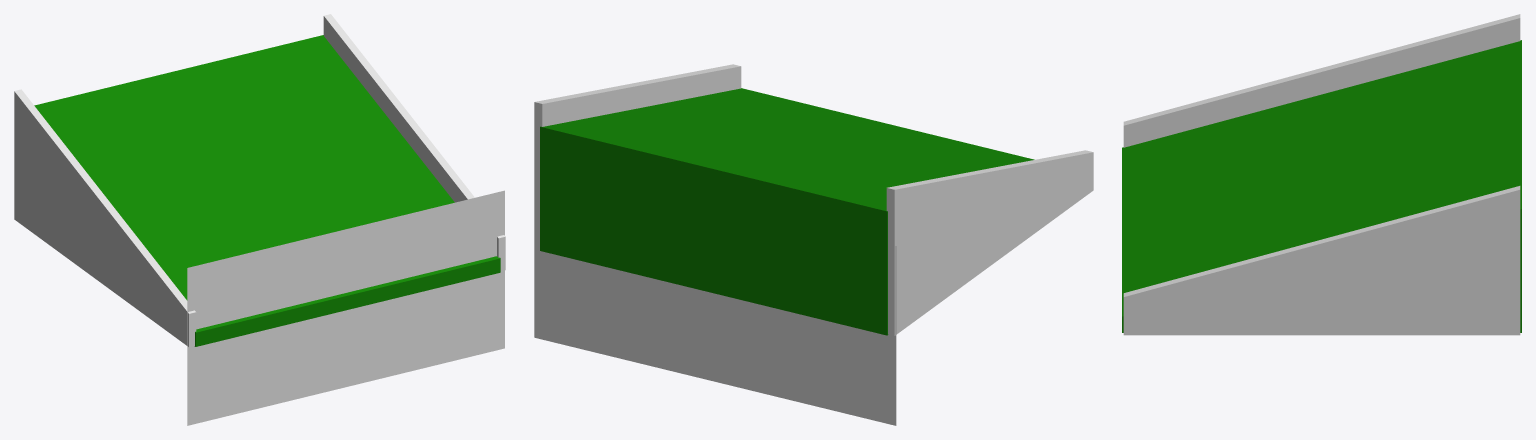
Rendered from slope.glb.
The picture shows the model from 3 angles, left to right: view 1: azimuth 30°, elevation 25°; view 2: azimuth 150°, elevation 25°; view 3: azimuth 270°, elevation 25°; orthographic projection. The views are drawn at different scales.
Visible parts, largest first — view 1: Cube, obj_snap, Cube.001, Cube.002; view 2: Cube, obj_snap.001, Cube.001, Cube.002; view 3: Cube, Cube.002, Cube.001.
Part boxes in pixels (box(x1,y1,x2,y2)): Cube: box(34, 35, 500, 346); obj_snap: box(187, 190, 504, 425); Cube.001: box(14, 89, 196, 347); Cube.002: box(323, 14, 505, 271); Cube: box(540, 88, 1034, 335); obj_snap.001: box(534, 246, 896, 425); Cube.001: box(886, 150, 1093, 335); Cube.002: box(534, 64, 741, 249); Cube: box(1122, 40, 1521, 332); Cube.002: box(1123, 186, 1520, 335); Cube.001: box(1123, 14, 1520, 147).
Size of the model in its own units: 4.21 by 2.63 by 4.04.
